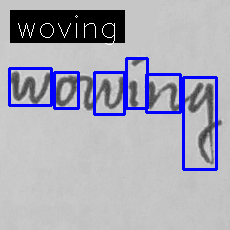g: (185, 80, 218, 166)
i: (128, 54, 142, 109)
n: (145, 78, 179, 113)
o: (53, 74, 79, 107)
w: (80, 73, 127, 112), (8, 67, 52, 106)
